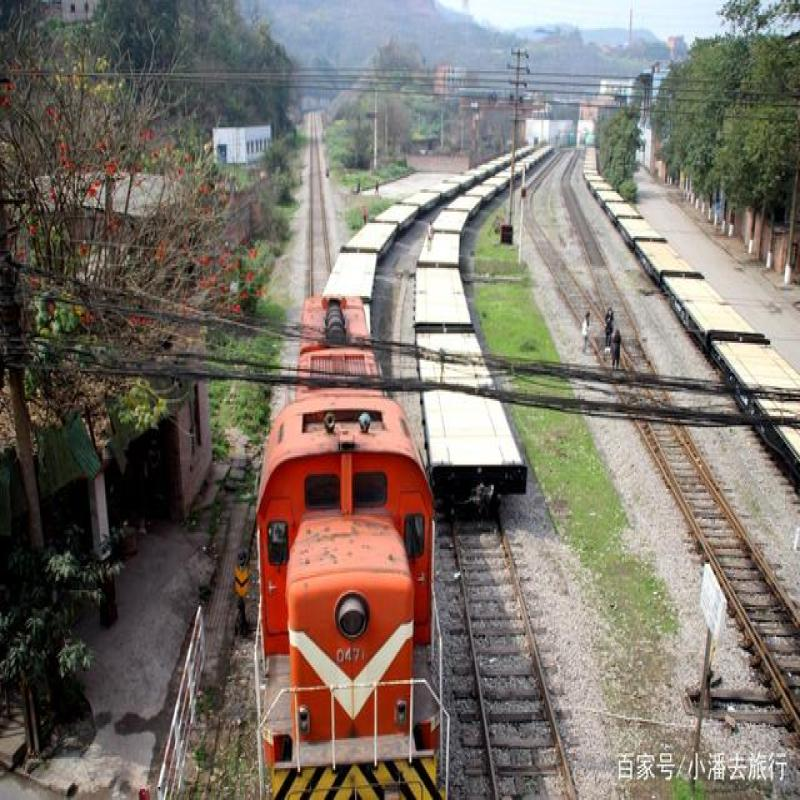train: (231, 160, 511, 741)
